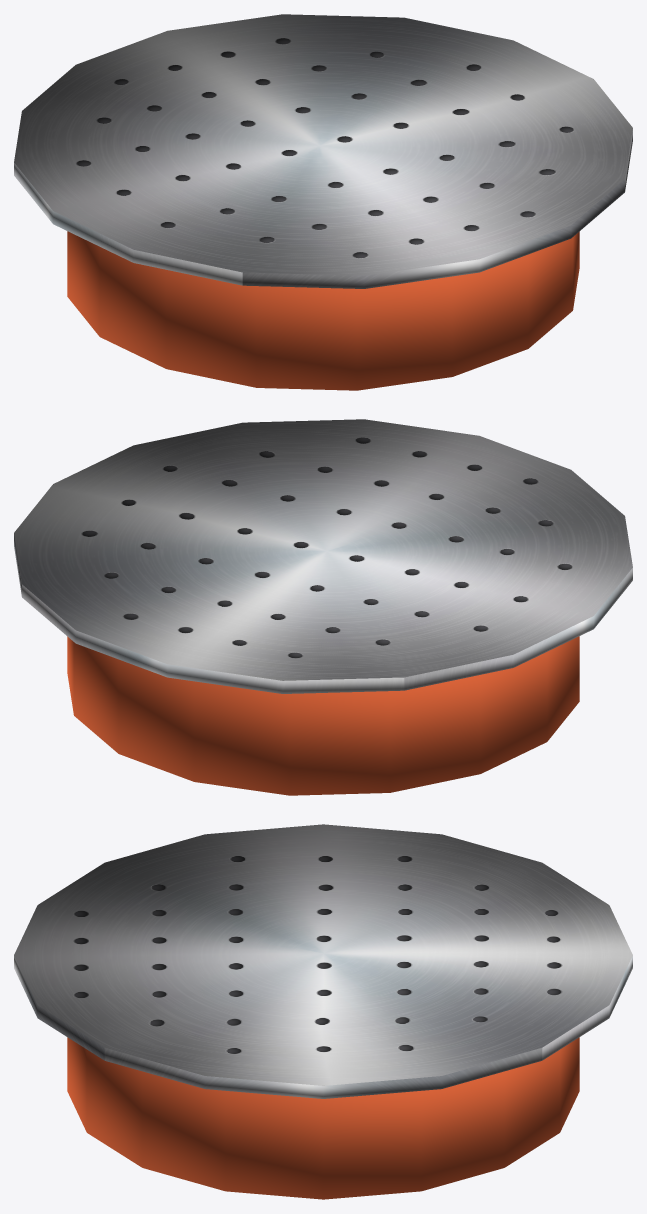
Rendered from EggMuffin_Case.fbx.
3 renders of one model, top to bottom at view 1: azimuth 30°, elevation 25°; view 2: azimuth 150°, elevation 25°; view 3: azimuth 270°, elevation 25°, orthographic.
Parts seen in each view (by area): view 1: Steel, Column; view 2: Steel, Column; view 3: Steel, Column.
Part boxes in pixels (bbox=[...]): Steel: bbox=[14, 14, 632, 288]; Column: bbox=[67, 231, 579, 390]; Steel: bbox=[14, 419, 632, 693]; Column: bbox=[67, 636, 579, 795]; Steel: bbox=[14, 824, 632, 1098]; Column: bbox=[67, 1037, 579, 1199].
Size of the model in its own units: 72.5 by 17.61 by 72.5.
Materials: 2 (1 with a texture image).
